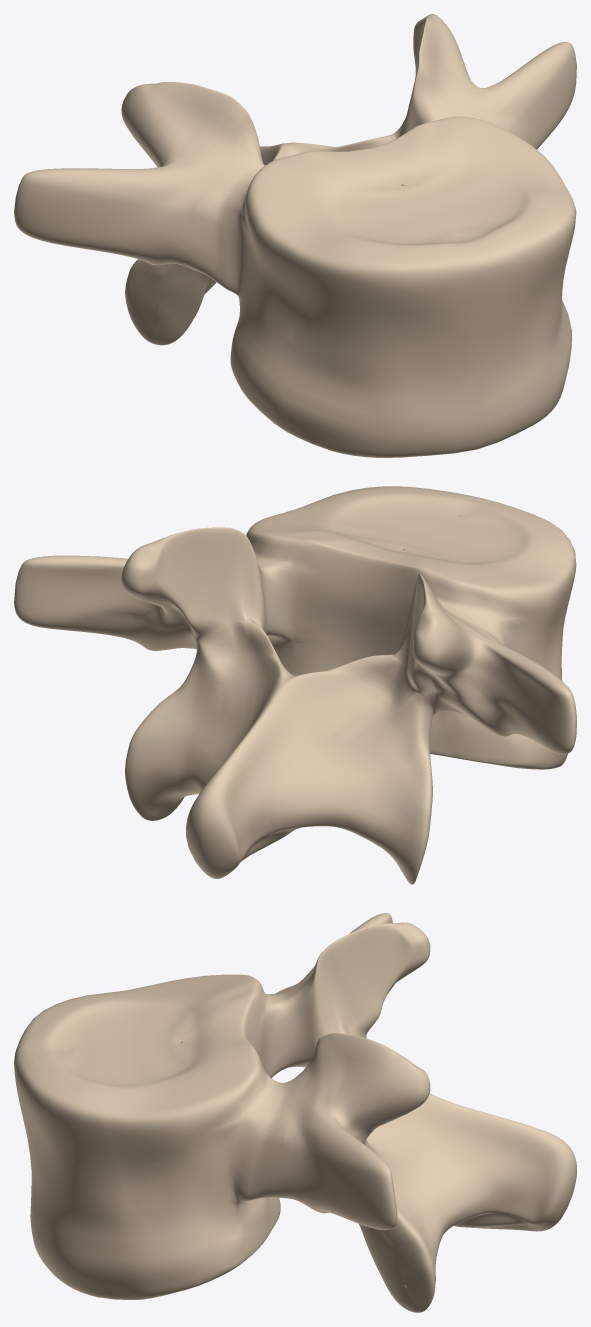
The picture shows the model from 3 angles, top to bottom: view 1: azimuth 30°, elevation 25°; view 2: azimuth 150°, elevation 25°; view 3: azimuth 270°, elevation 25°; orthographic projection. The views are drawn at different scales.
Parts seen in each view (by area): view 1: L4; view 2: L4; view 3: L4.
Part boxes in pixels (<box>): L4: <box>14,14,576,457</box>; L4: <box>14,486,576,884</box>; L4: <box>14,913,576,1312</box>.
Size of the model in its own units: 98.51 by 46.28 by 87.93.
